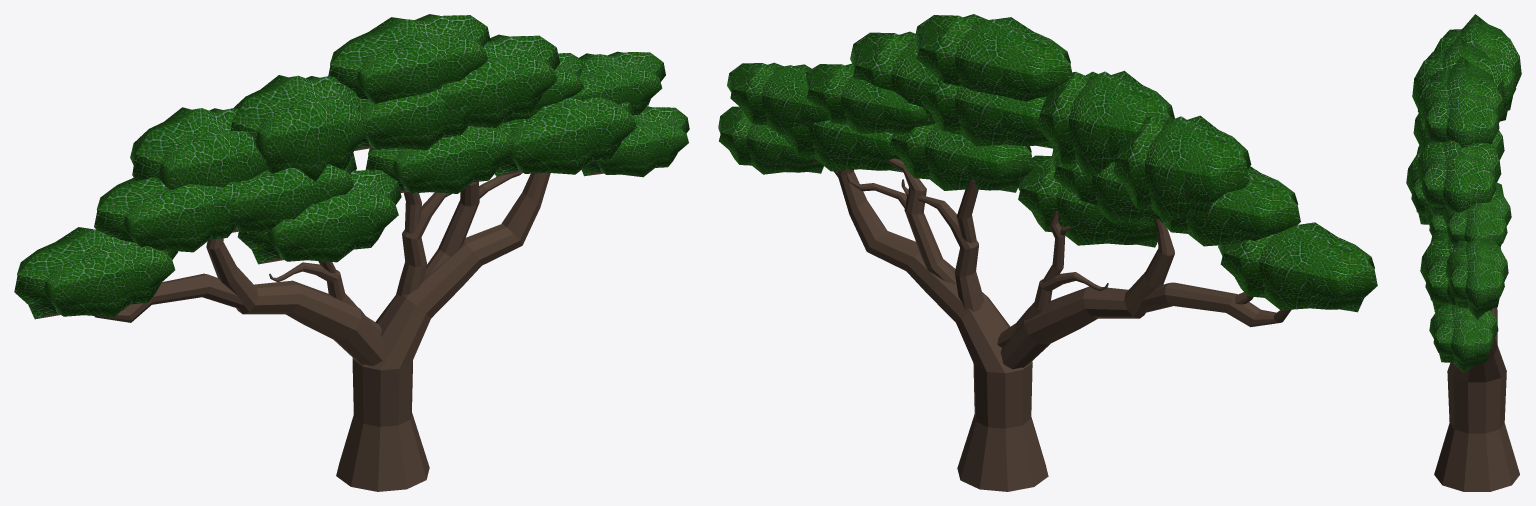
The model's file is Africa_Tree_2.fbx.
The picture shows the model from 3 angles, left to right: view 1: azimuth 30°, elevation 25°; view 2: azimuth 150°, elevation 25°; view 3: azimuth 270°, elevation 25°; orthographic projection. The views are drawn at different scales.
Parts seen in each view (by area): view 1: Tree_2; view 2: Tree_2; view 3: Tree_2.
Boxes of the visible parts, box(x1,y1,x2,y2) form: Tree_2: box(14, 14, 689, 491); Tree_2: box(718, 14, 1377, 491); Tree_2: box(1406, 14, 1521, 491).
Size of the model in its own units: 13.74 by 8.82 by 2.26.
